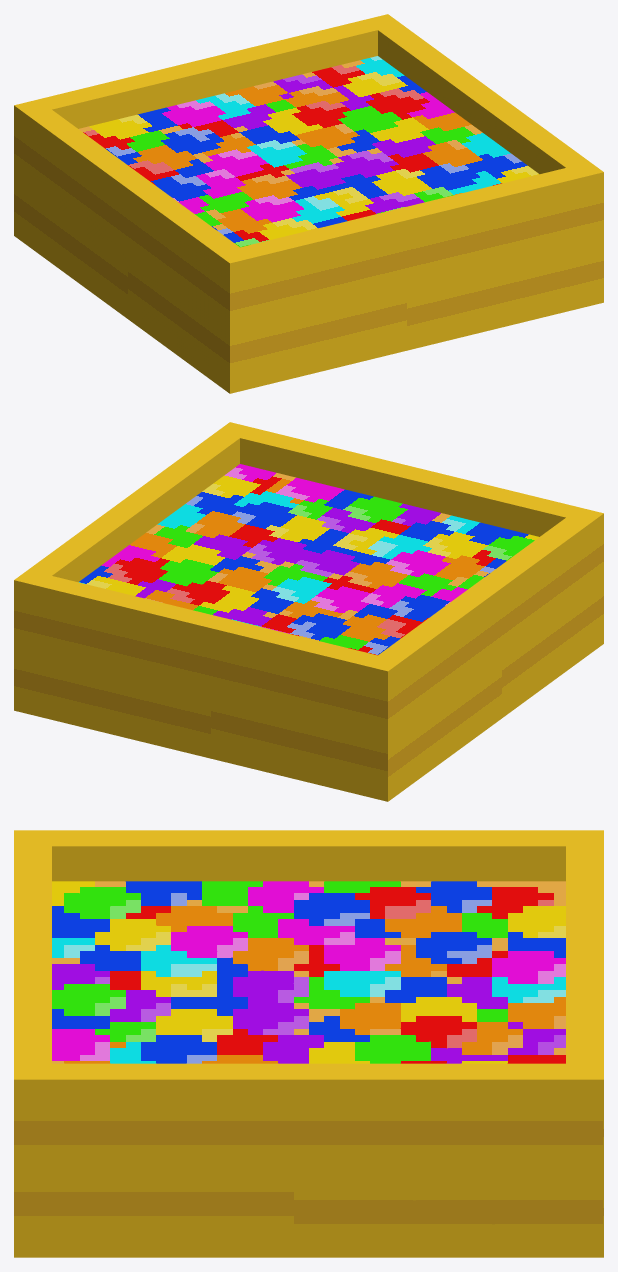
File: Piscine_Balles.glb
3 renders of one model, top to bottom at view 1: azimuth 30°, elevation 25°; view 2: azimuth 150°, elevation 25°; view 3: azimuth 270°, elevation 25°, orthographic. The views are drawn at different scales.
Visible parts, largest first — view 1: Cube; view 2: Cube; view 3: Cube.
Part boxes in pixels (left/top/right/bottom): Cube: left=14, top=14, right=603, bottom=393; Cube: left=14, top=422, right=603, bottom=801; Cube: left=14, top=830, right=603, bottom=1257.
Bounding box in the file's own units: 2.4 × 0.8 × 2.4.
1 material, 1 textured.
